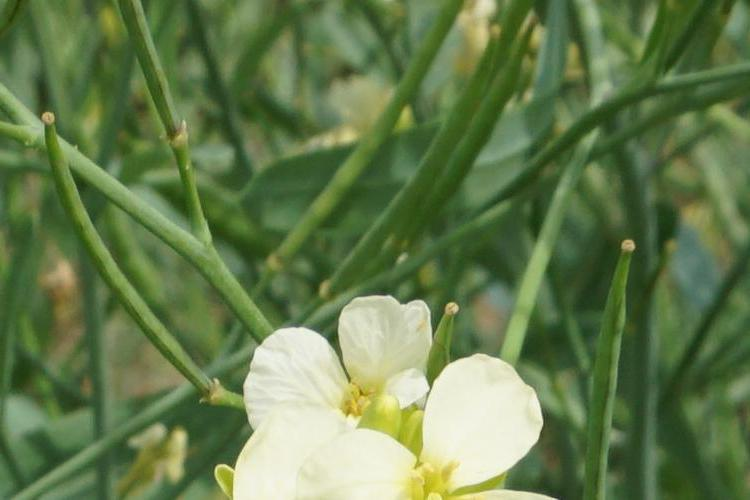bud: (363, 386, 404, 449), (402, 407, 441, 460)
pod: (54, 101, 222, 430), (570, 222, 650, 485), (427, 288, 464, 377)
white: (313, 302, 550, 494), (241, 291, 431, 414)
